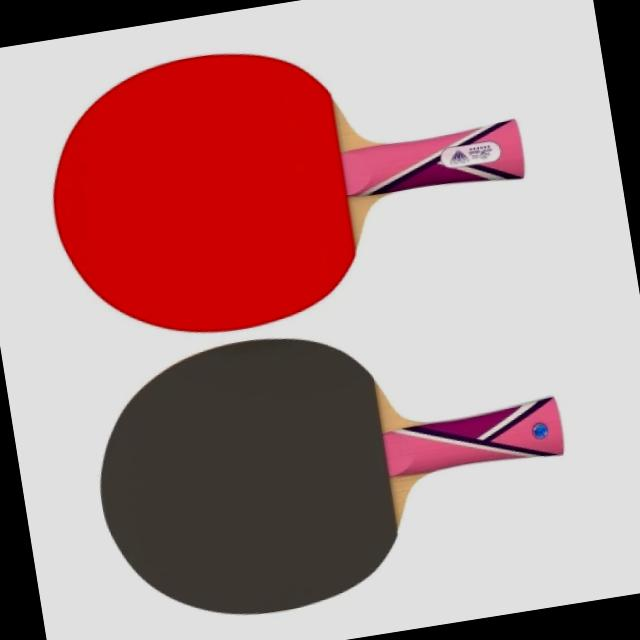TT Racket: (13, 13, 412, 362), (68, 309, 462, 640)
